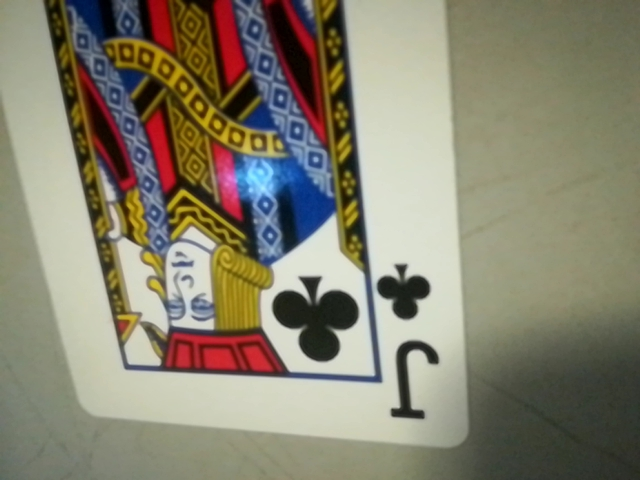mh j: (366, 253, 458, 435)
